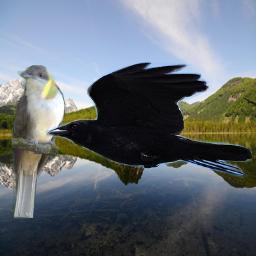Crow: (46, 62, 254, 178)
Cuckoo: (9, 65, 65, 218)
